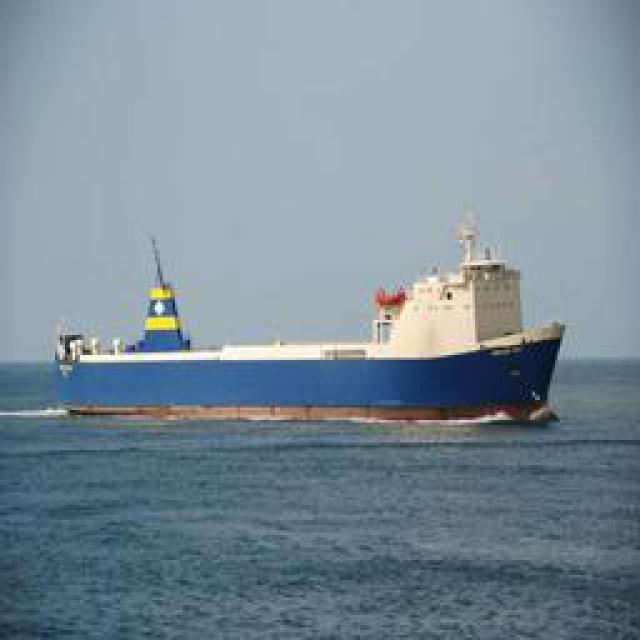Ship: (44, 207, 584, 420)
